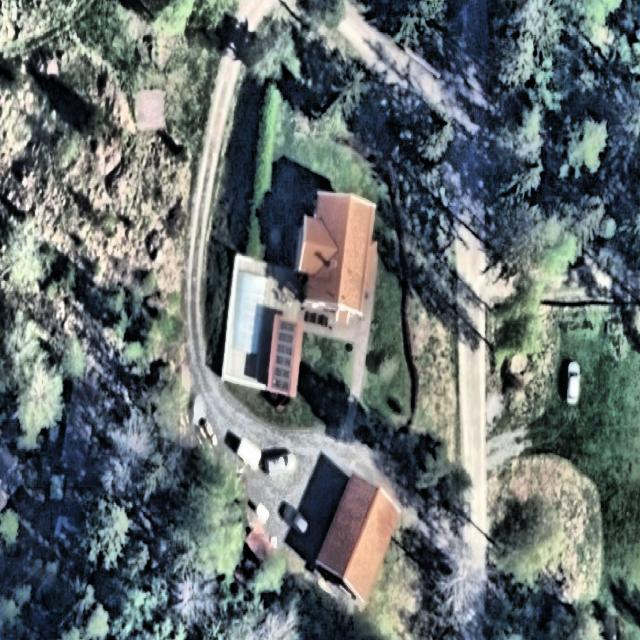roof_pv: (272, 315, 298, 397)
